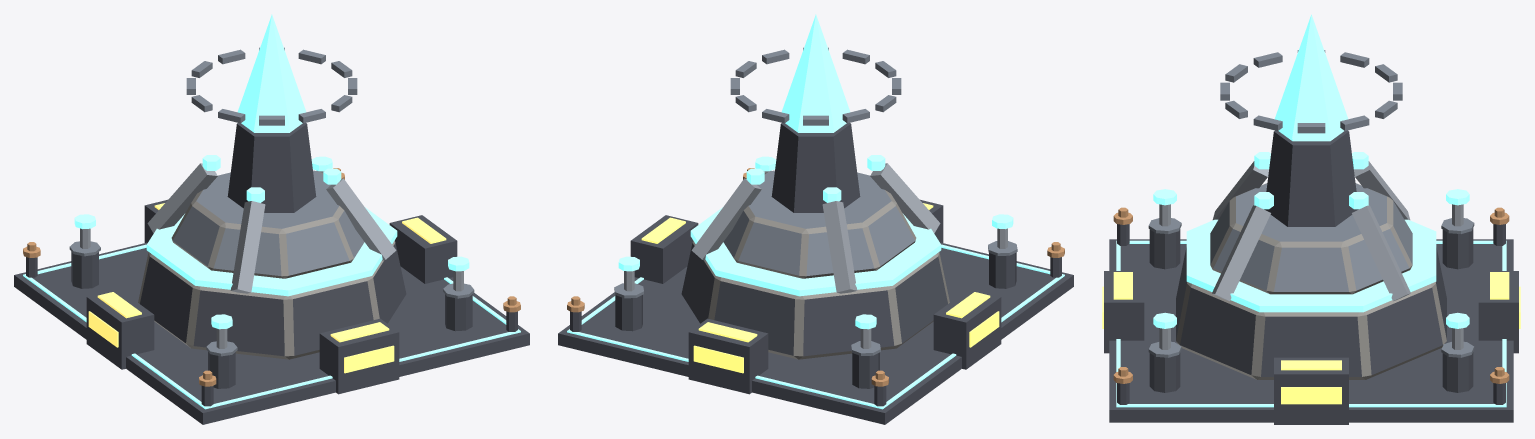
Rendered from nucleo_sem_textura.glb.
The picture shows the model from 3 angles, left to right: view 1: azimuth 30°, elevation 25°; view 2: azimuth 150°, elevation 25°; view 3: azimuth 270°, elevation 25°; orthographic projection. The views are drawn at different scales.
Visible parts, largest first — view 1: nucleo_corpo, nucleo_cristal, nucleo_antena, nucleo_pistao0, nucleo_pistao2, nucleo_pistao1; view 2: nucleo_corpo, nucleo_cristal, nucleo_antena, nucleo_pistao1, nucleo_pistao3, nucleo_pistao0; view 3: nucleo_corpo, nucleo_cristal, nucleo_antena, nucleo_pistao0, nucleo_pistao1, nucleo_pistao2, nucleo_pistao3.
Part boxes in pixels (<box>): nucleo_corpo: <box>14,123,529,424</box>; nucleo_cristal: <box>237,14,306,132</box>; nucleo_antena: <box>186,47,357,125</box>; nucleo_pistao0: <box>211,314,232,348</box>; nucleo_pistao2: <box>448,256,469,291</box>; nucleo_pistao1: <box>74,214,95,248</box>; nucleo_corpo: <box>558,123,1073,424</box>; nucleo_cristal: <box>781,14,850,132</box>; nucleo_antena: <box>730,47,901,125</box>; nucleo_pistao1: <box>855,314,876,348</box>; nucleo_pistao3: <box>618,256,639,291</box>; nucleo_pistao0: <box>992,214,1013,248</box>; nucleo_corpo: <box>1102,130,1520,424</box>; nucleo_cristal: <box>1274,14,1348,141</box>; nucleo_antena: <box>1220,50,1402,133</box>; nucleo_pistao0: <box>1153,189,1176,226</box>; nucleo_pistao1: <box>1446,189,1469,226</box>; nucleo_pistao2: <box>1153,312,1176,349</box>; nucleo_pistao3: <box>1446,312,1469,349</box>.
Size of the model in its own units: 3 by 2.56 by 3.
